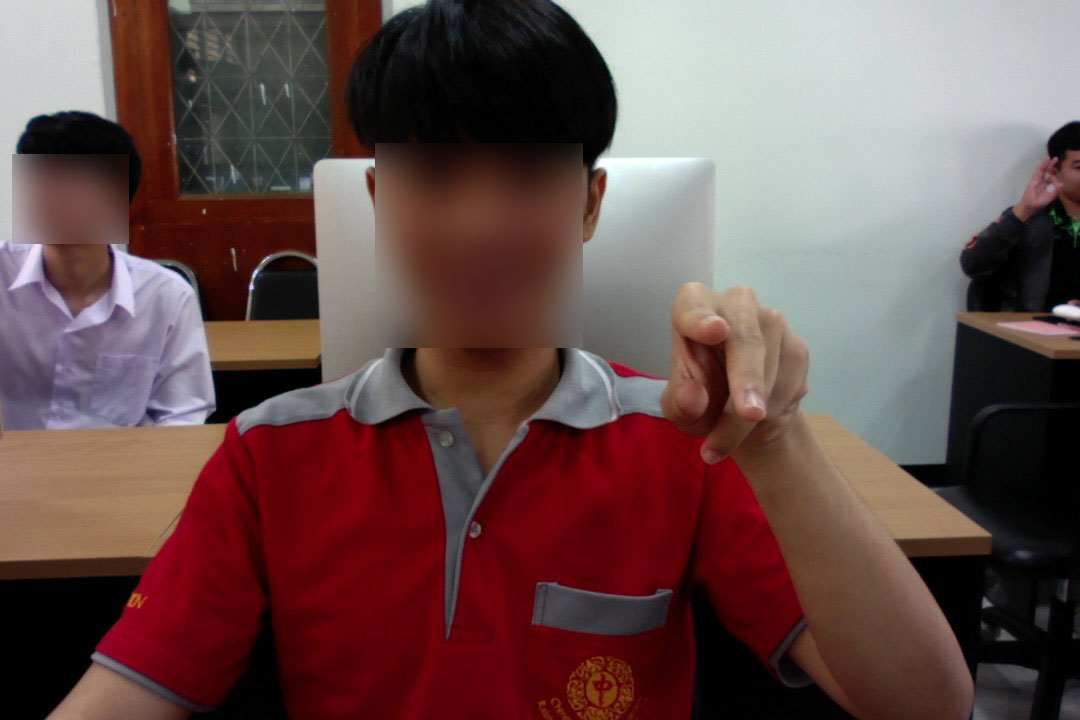por: (650, 264, 818, 472)
